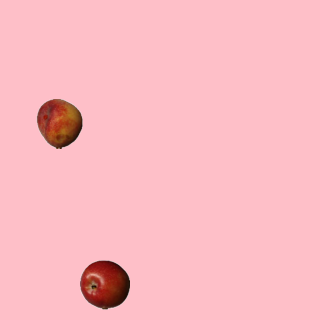Apple Braeburn: (79, 259, 129, 309)
Peach: (34, 98, 84, 148)
